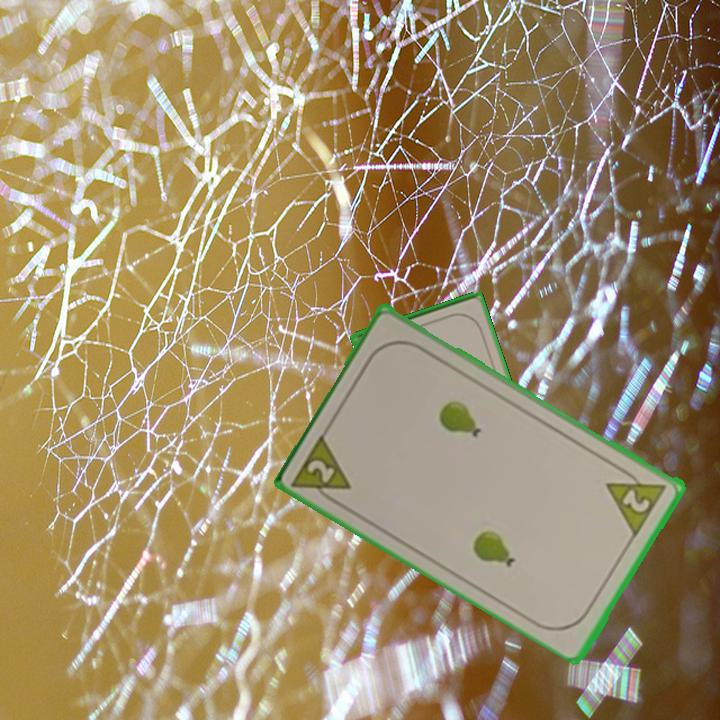2p: (289, 429, 355, 510), (602, 461, 671, 538)
